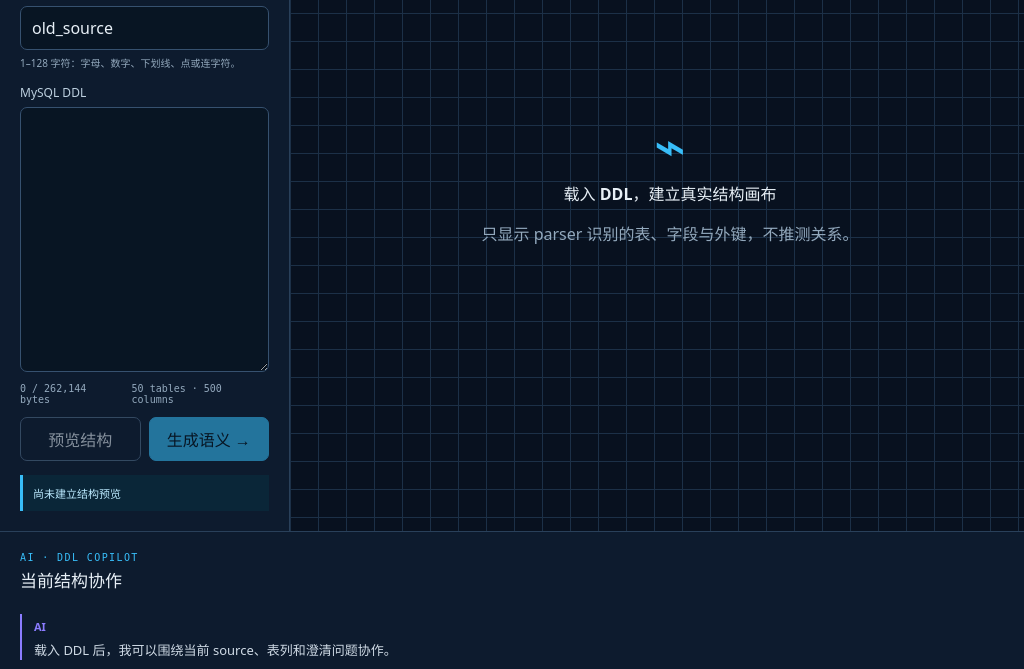
Test case: workbench chat › reconciles a pending submission before the job in the current deep link
Check: the text box labelled "MySQL DDL" is enabled, box [20,107,269,372]
Replace the text in the field labelled "数据源" with "new_source" at (144, 28), box [20,6,269,50]
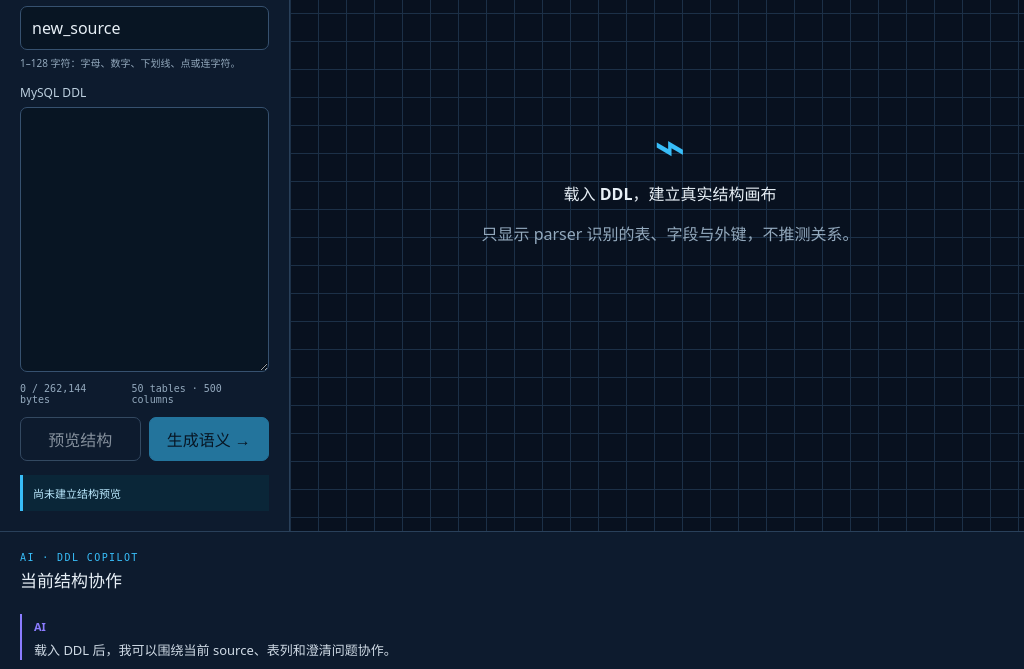
Type "CREATE TABLE new_orders (id BIGINT);" into the text box labelled "MySQL DDL" at (144, 240), box [20,107,269,372]
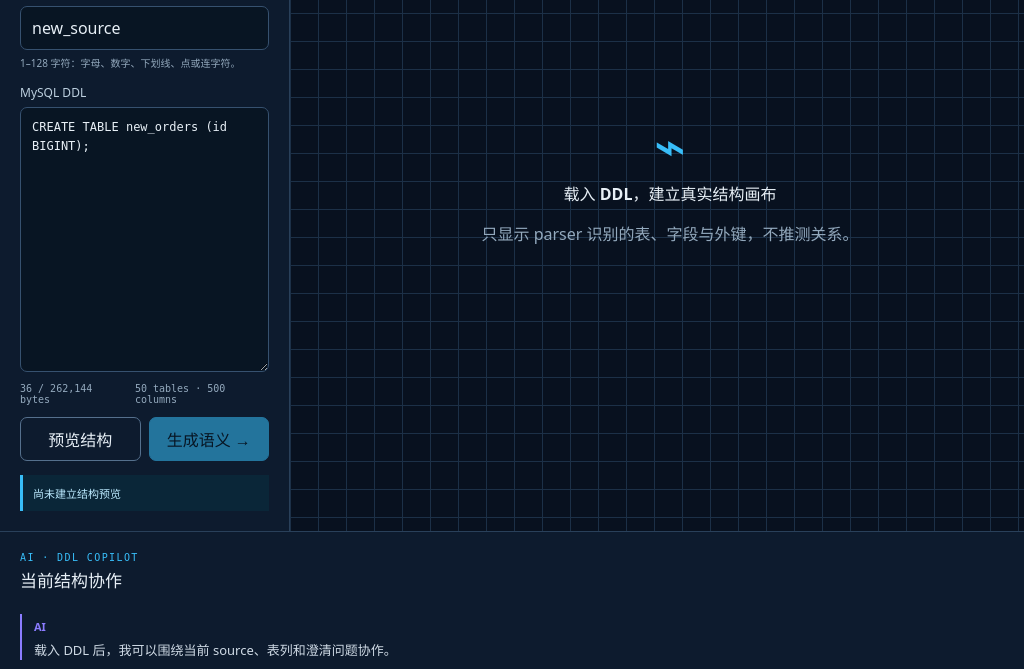
Click the button "预览结构" at (80, 439), box [20,417,140,461]
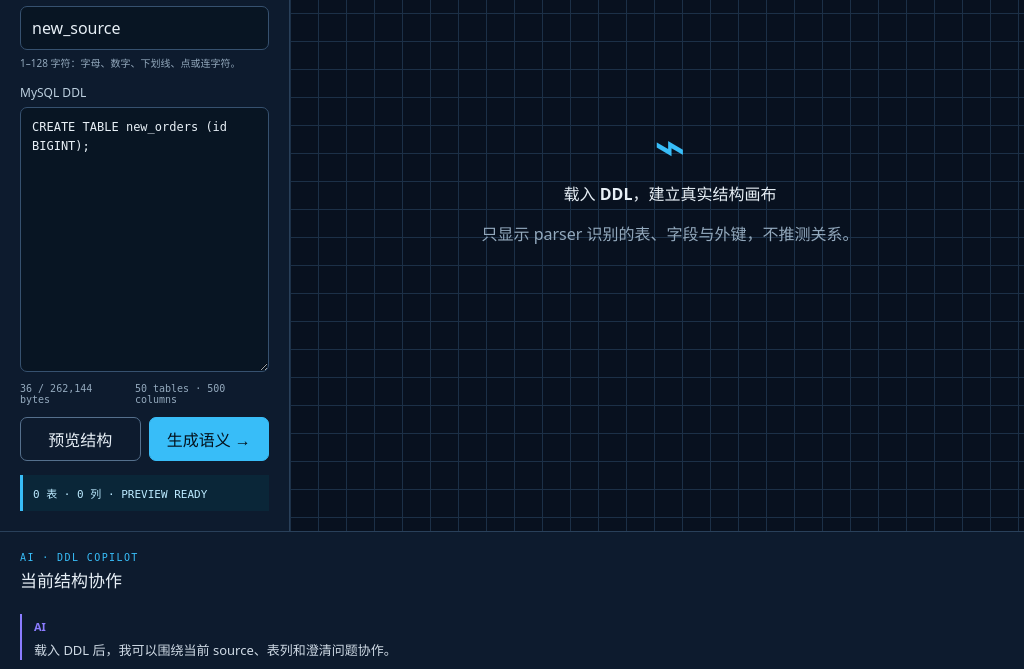
Check: the button "生成语义 →" is enabled
Click the button "生成语义 →" at (209, 439), box [148,417,269,461]
(page scrolled)
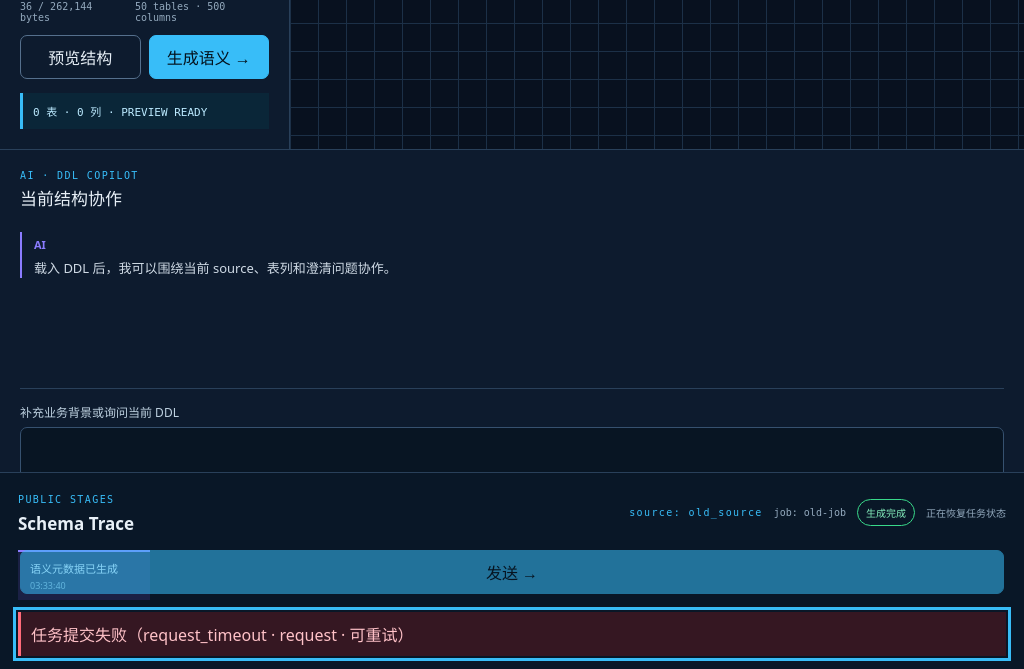
Check: the text "任务提交失败（request_timeout · request · 可重试）" is shown, box [18,612,1006,656]
